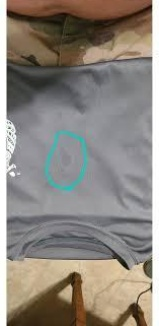oil: (58, 148, 73, 175)
